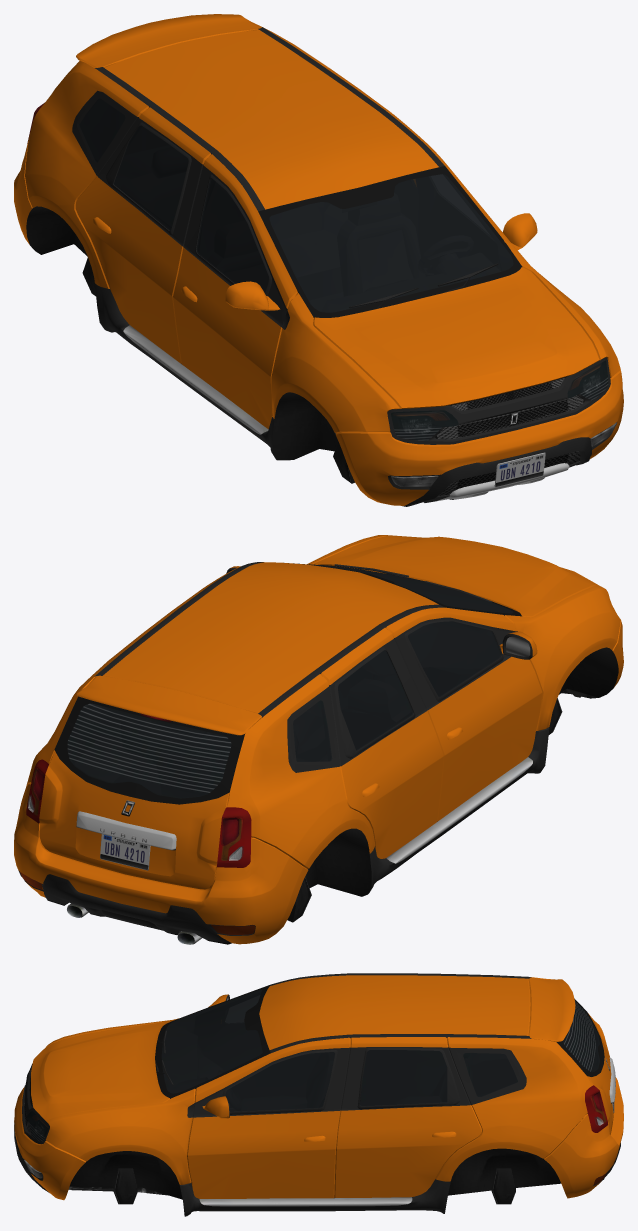
Rendered from urban.glb.
The picture shows the model from 3 angles, top to bottom: view 1: azimuth 30°, elevation 25°; view 2: azimuth 150°, elevation 25°; view 3: azimuth 270°, elevation 25°; orthographic projection. The views are drawn at different scales.
Visible parts, largest first — view 1: part1, part3, part0, part6, part7, part2; view 2: part1, part3, part0, part6, part7, part4; view 3: part1, part3, part0, part6.
Boxes of the visible parts, box(x1,y1,x2,y2) form: part1: box(14, 14, 623, 505); part3: box(26, 27, 616, 506); part0: box(27, 98, 608, 440); part6: box(80, 99, 512, 326); part7: box(494, 452, 545, 487); part2: box(401, 372, 599, 434); part1: box(14, 535, 623, 944); part3: box(18, 562, 618, 944); part0: box(26, 563, 513, 867); part6: box(69, 565, 512, 797); part7: box(100, 834, 150, 870); part4: box(35, 713, 239, 844); part1: box(14, 975, 623, 1200); part3: box(14, 973, 620, 1216); part0: box(26, 989, 607, 1141); part6: box(162, 990, 597, 1116).
Size of the model in its own units: 1.88 by 1.32 by 4.29.
Materials: 9 (8 with a texture image).
